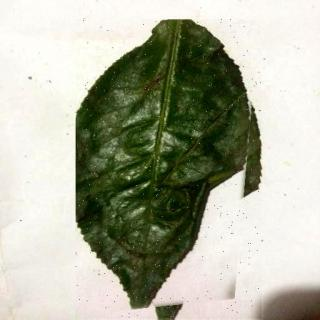Red Leaf Spot: (77, 21, 262, 320)
